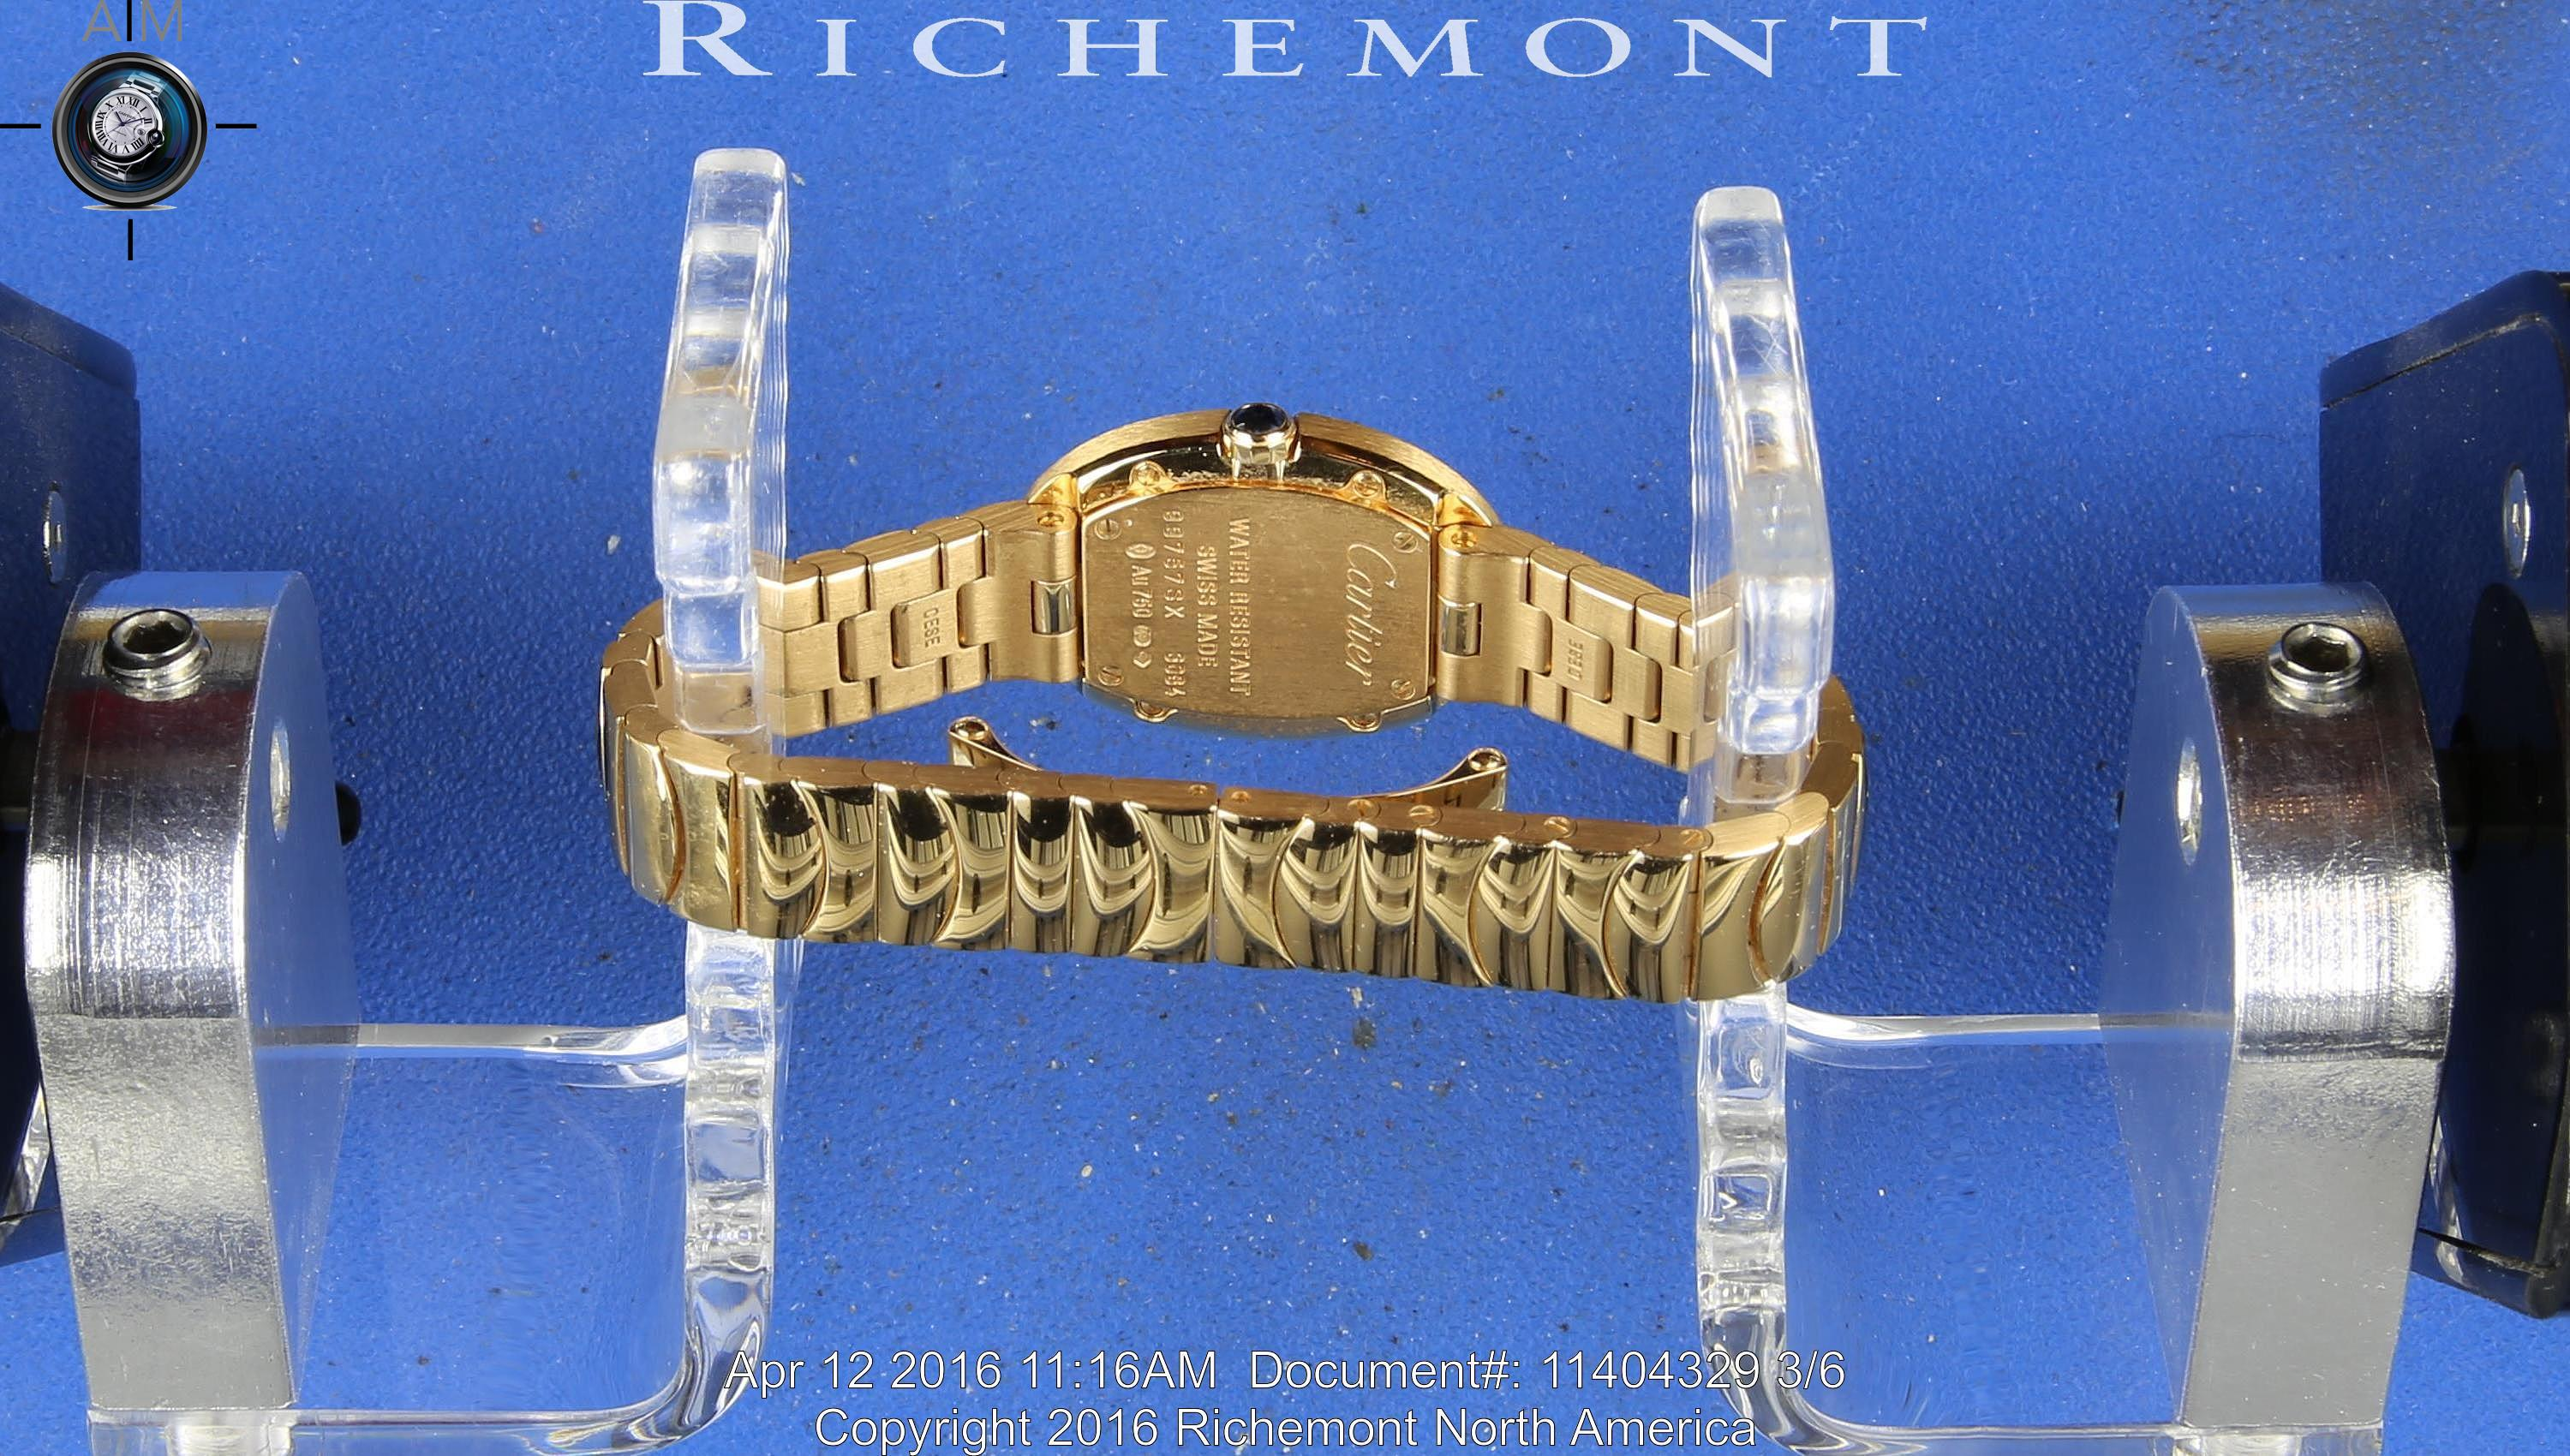Watch Back Case: (1031, 394, 1486, 741)
